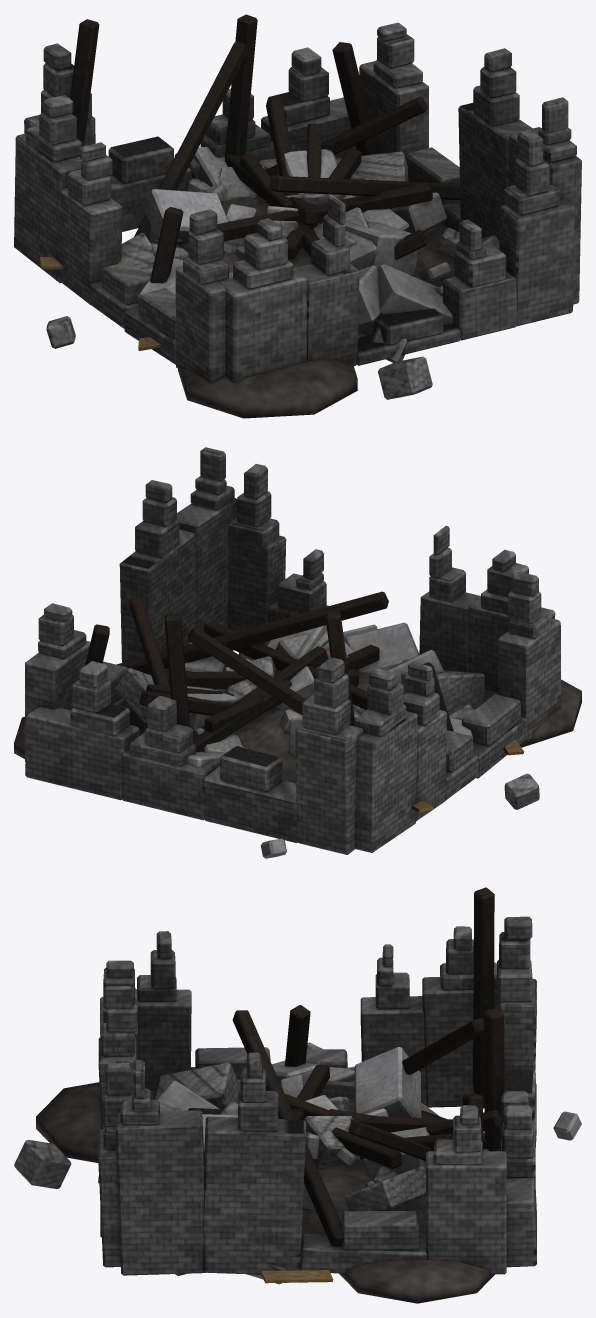
The model's file is ruine.glb.
3 renders of one model, top to bottom at view 1: azimuth 30°, elevation 25°; view 2: azimuth 150°, elevation 25°; view 3: azimuth 270°, elevation 25°, orthographic. The views are drawn at different scales.
Parts seen in each view (by area): view 1: ruine; view 2: ruine; view 3: ruine.
Boxes of the visible parts, bbox=[...] form: ruine: bbox=[14, 14, 581, 418]; ruine: bbox=[14, 447, 581, 858]; ruine: bbox=[14, 887, 581, 1303].
Bounding box in the file's own units: 5.25 × 2.81 × 5.15.
Materials: 1 (1 with a texture image).
